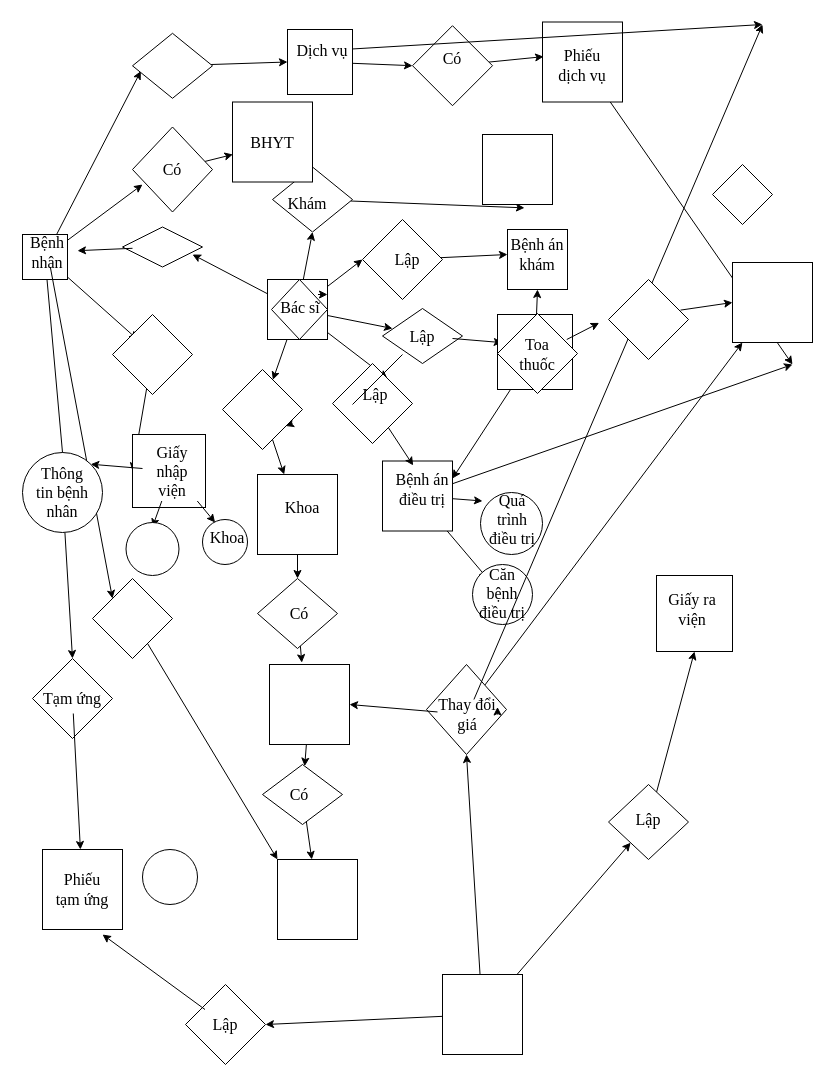
This 830x1082 diagram has some shape labels left out. Here are the shapes that lost their labels. From the top down, the box of each, then its label:
(132, 32, 212, 98): Sử dụng
(482, 134, 552, 204): Phòng khám
(712, 164, 772, 224): được
(122, 226, 202, 267): Yêu cầu
(608, 278, 688, 360): Bao gồm
(732, 262, 812, 342): Thuốc
(112, 314, 192, 394): Nhập viện
(222, 368, 302, 450): Thuộc
(125, 522, 179, 576): Căn bệnh dự đoán
(92, 578, 172, 658): Nằm
(268, 664, 350, 744): Phòng
(142, 848, 198, 904): Ngày
(276, 858, 358, 940): Giường
(442, 974, 522, 1054): Nhân viên
